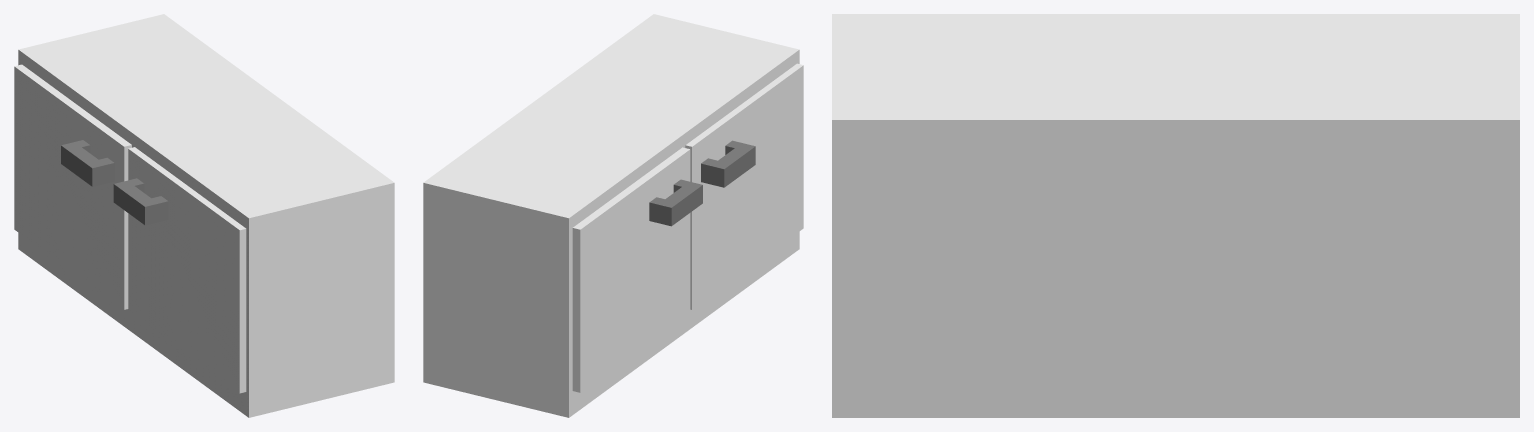
Rendered from kaappi3_white.FBX.
3 views of the same model, side by side, from view 1: azimuth 30°, elevation 25°; view 2: azimuth 150°, elevation 25°; view 3: azimuth 270°, elevation 25° (orthographic). The views are drawn at different scales.
Visible parts, largest first — view 1: Kaappi3_white; view 2: Kaappi3_white; view 3: Kaappi3_white.
Part boxes in pixels (<box>): Kaappi3_white: <box>14,14,394,417</box>; Kaappi3_white: <box>423,14,803,417</box>; Kaappi3_white: <box>832,14,1519,417</box>.
Bounding box in the file's own units: 133 × 145 × 303.
